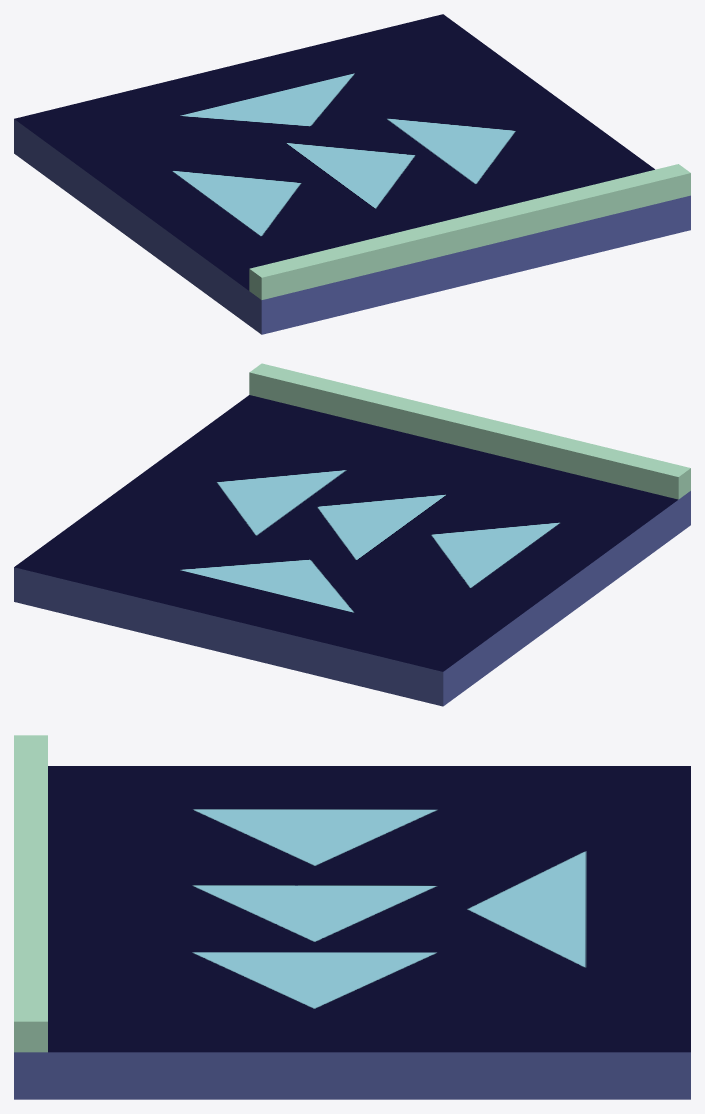
The model's file is conveer_4_5.fbx.
The picture shows the model from 3 angles, top to bottom: view 1: azimuth 30°, elevation 25°; view 2: azimuth 150°, elevation 25°; view 3: azimuth 270°, elevation 25°; orthographic projection. The views are drawn at different scales.
Parts seen in each view (by area): view 1: Cube, Cube.002; view 2: Cube, Cube.002; view 3: Cube, Cube.002.
Part boxes in pixels (x1=…): Cube: x1=14, y1=14, x2=690, y2=334; Cube.002: x1=249, y1=164, x2=690, y2=299; Cube: x1=14, y1=395, x2=690, y2=706; Cube.002: x1=249, y1=363, x2=690, y2=499; Cube: x1=14, y1=766, x2=690, y2=1099; Cube.002: x1=14, y1=735, x2=47, y2=1052.
Size of the model in its own units: 200 by 25.43 by 200.
3 materials, 1 textured.
